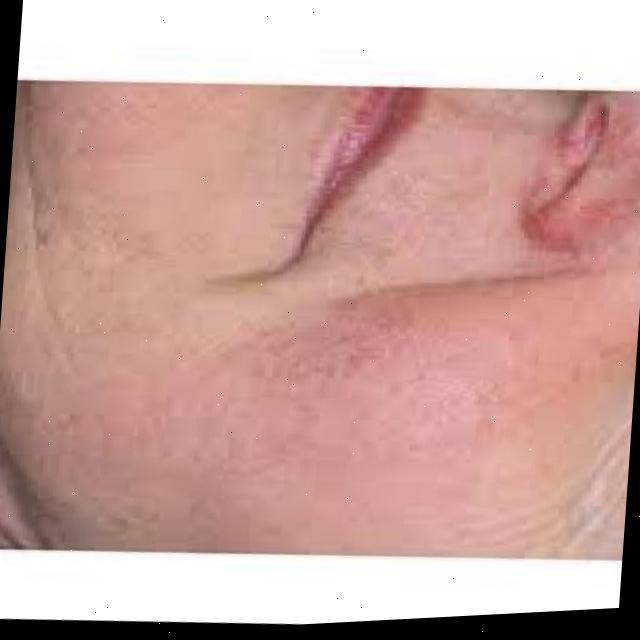Rosacea: (249, 284, 514, 537), (533, 84, 640, 258)
